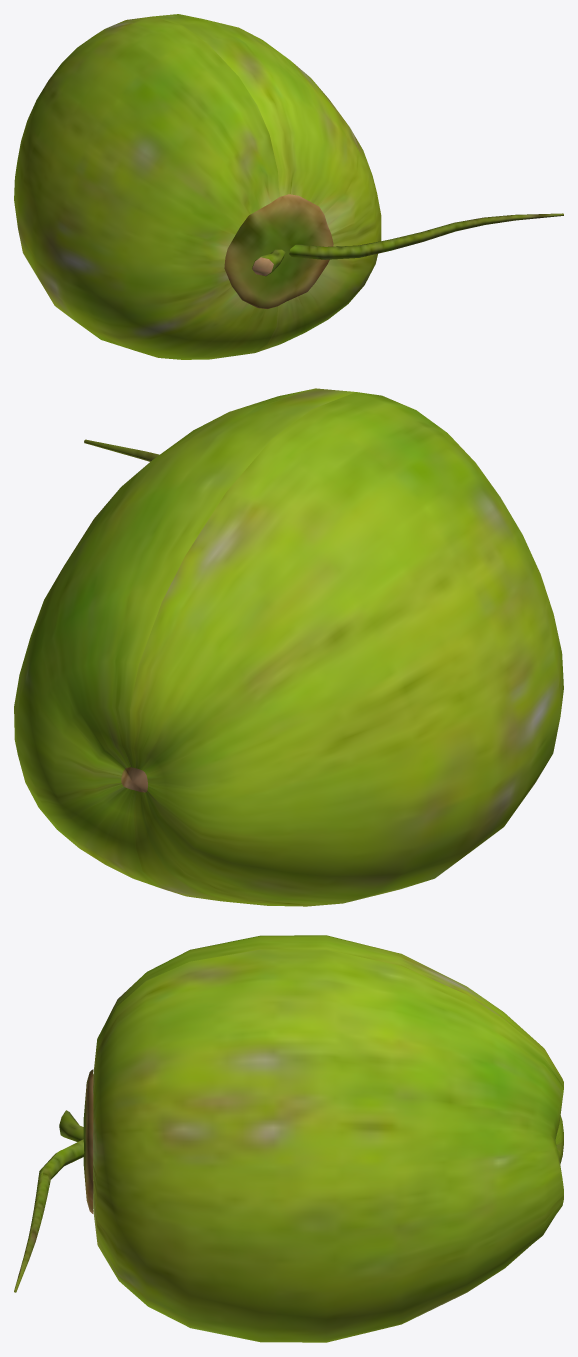
The model's file is nut.glb.
3 views of the same model, one above another, from view 1: azimuth 30°, elevation 25°; view 2: azimuth 150°, elevation 25°; view 3: azimuth 270°, elevation 25° (orthographic). The views are drawn at different scales.
Visible parts, largest first — view 1: Sphere_0; view 2: Sphere_0; view 3: Sphere_0.
Part boxes in pixels (left/top/right/bottom): Sphere_0: left=14, top=14, right=563, bottom=359; Sphere_0: left=14, top=388, right=563, bottom=906; Sphere_0: left=14, top=935, right=563, bottom=1342.
Bounding box in the file's own units: 2.56 × 1.83 × 2.5.
1 material, 1 textured.
